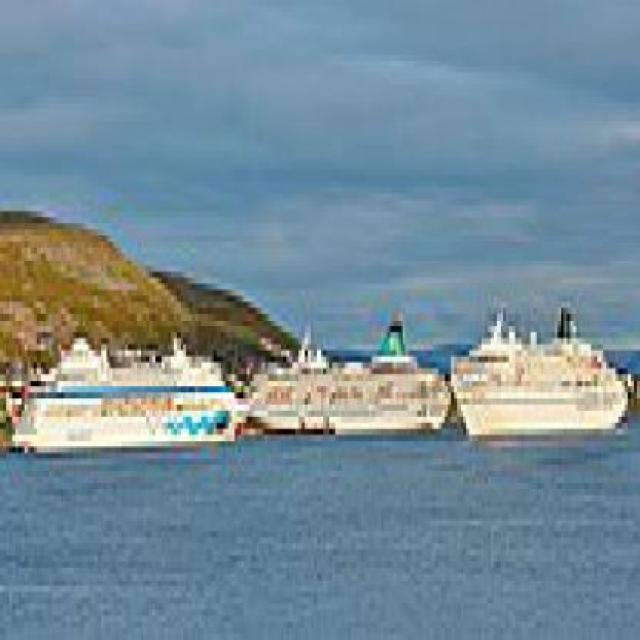cruise: (3, 315, 254, 466)
